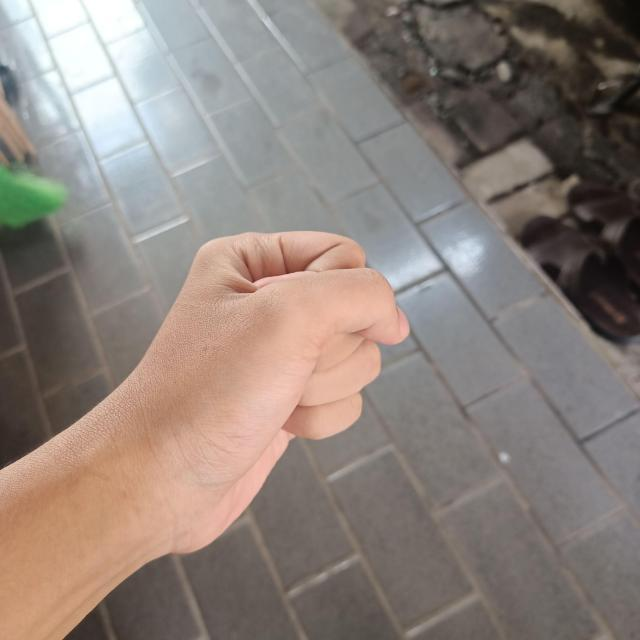fist: (176, 229, 424, 563)
